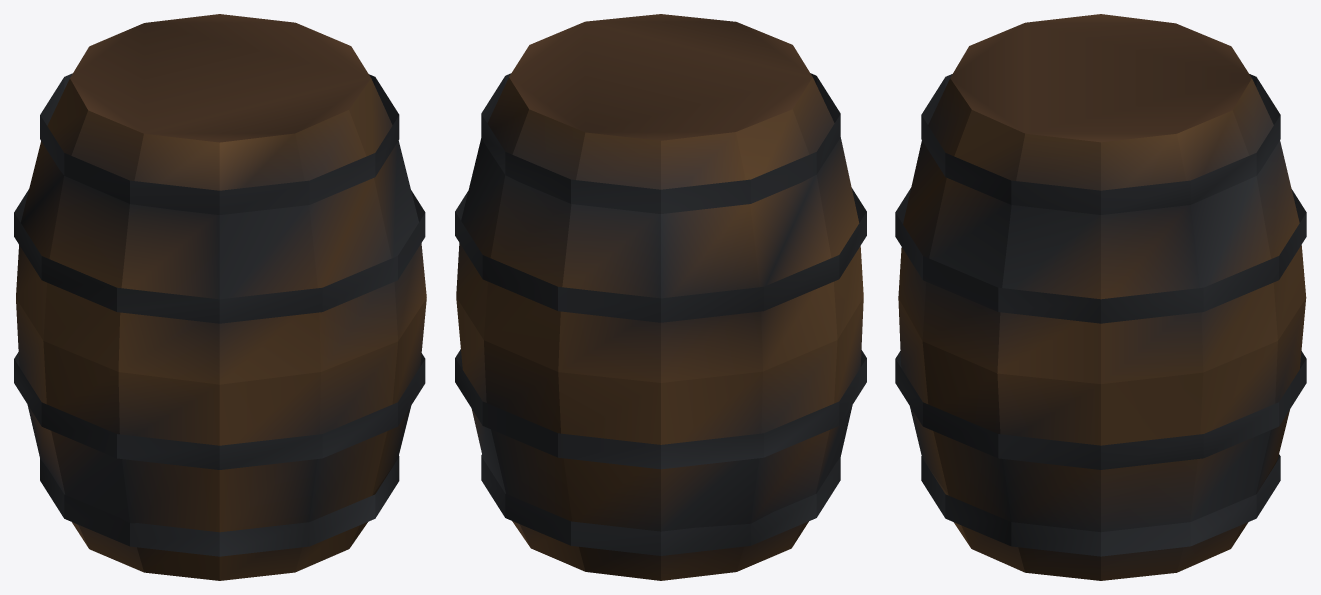
The model's file is barrel.glb.
3 renders of one model, left to right at view 1: azimuth 30°, elevation 25°; view 2: azimuth 150°, elevation 25°; view 3: azimuth 270°, elevation 25°, orthographic.
Parts seen in each view (by area): view 1: barrel; view 2: barrel; view 3: barrel.
Boxes of the visible parts, <box> form: barrel: <box>14,14,426,580</box>; barrel: <box>455,14,866,580</box>; barrel: <box>895,14,1306,580</box>.
Size of the model in its own units: 0.764 by 0.9 by 0.764.
